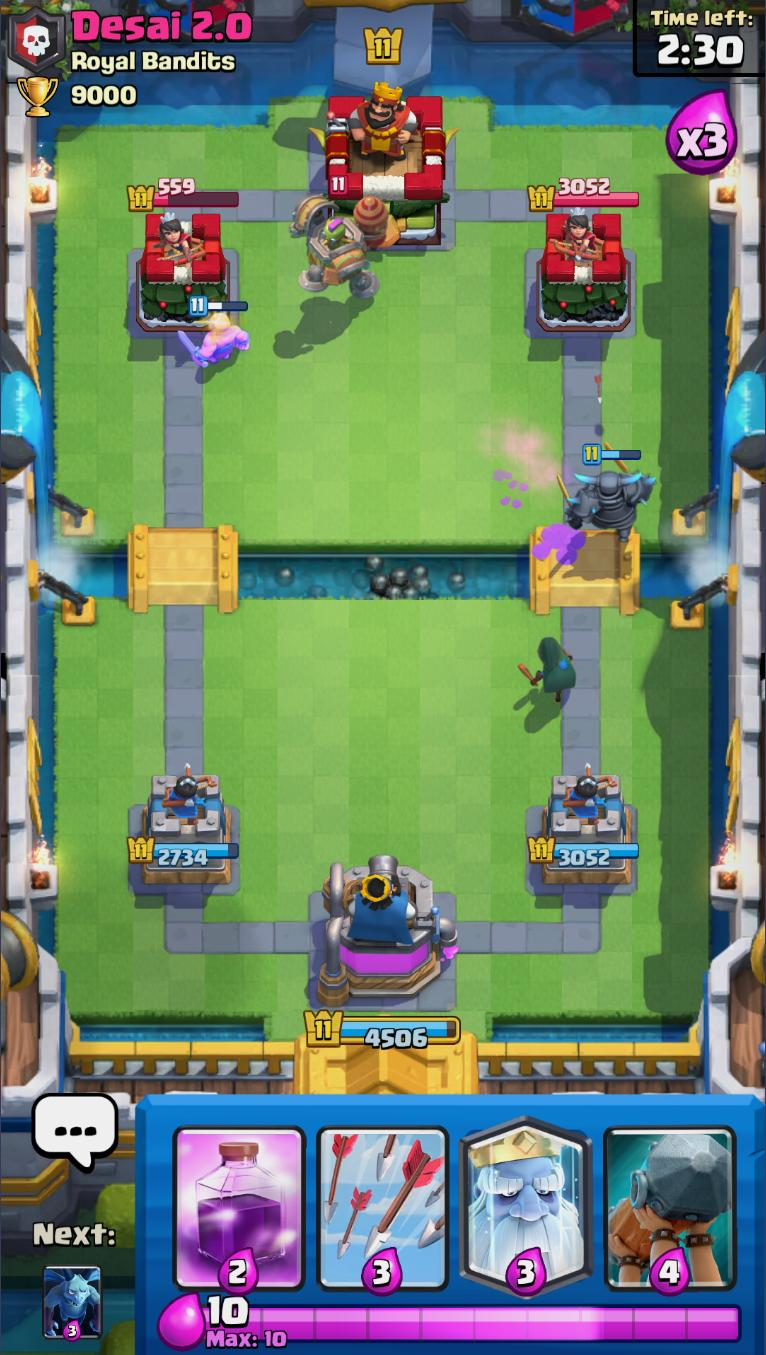ArrowDeck: (311, 1098, 454, 1300)
Bandit: (518, 635, 577, 703)
BattleRamDeck: (601, 1097, 740, 1294)
Elixir: (202, 1297, 745, 1350)
EnemyTower: (524, 212, 634, 333), (125, 211, 232, 333)
GoblinMachine: (288, 176, 400, 304)
KingTower: (308, 82, 462, 250)
MinionsNext: (42, 1265, 104, 1342)
MyBarbarian: (180, 294, 249, 364)
MyKingHP: (304, 1007, 462, 1051)
MyKingTower: (317, 854, 459, 1008)
MyPekka: (556, 441, 660, 545)
MyPrincessTower: (128, 771, 239, 896), (529, 769, 640, 886)
MyPrincessTowerHP: (127, 835, 240, 867), (528, 837, 640, 869)
PrincessTower: (150, 215, 205, 268), (550, 216, 607, 267)
RageDeck: (169, 1094, 313, 1295)
RoyaleGhostDeck: (454, 1096, 600, 1297)
TowerPrincessHP: (529, 180, 641, 214), (129, 179, 241, 212)
